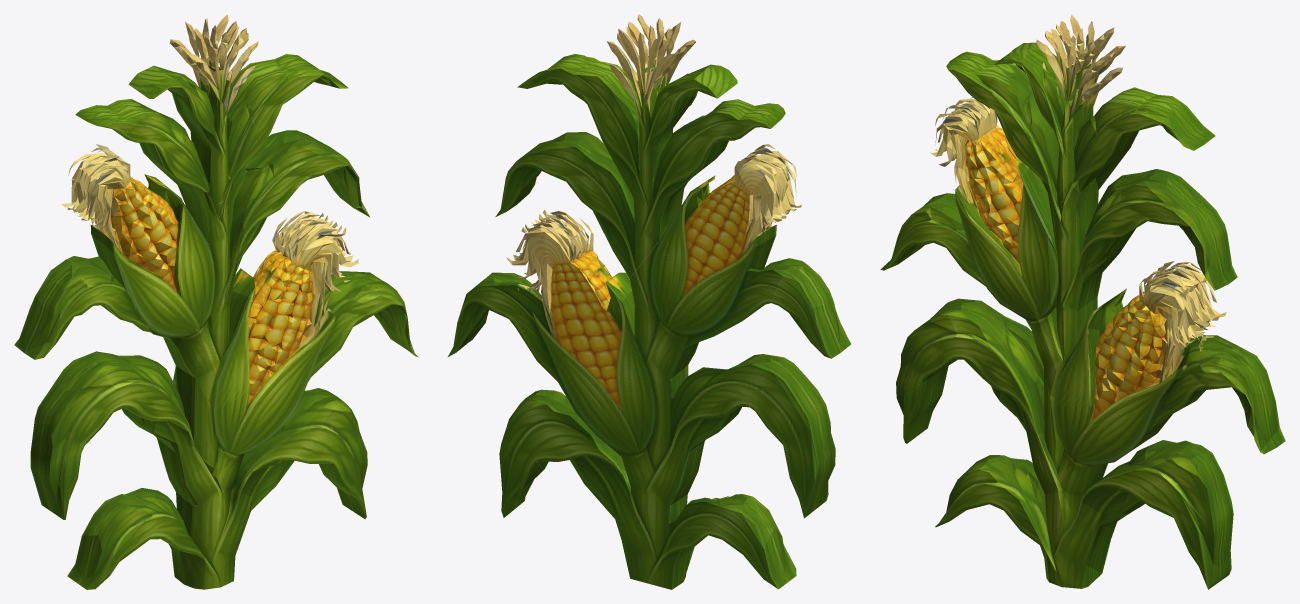
The model's file is jagung.glb.
The picture shows the model from 3 angles, left to right: view 1: azimuth 30°, elevation 25°; view 2: azimuth 150°, elevation 25°; view 3: azimuth 330°, elevation 25°; orthographic projection.
Visible parts, largest first — view 1: Mesh_0; view 2: Mesh_0; view 3: Mesh_0.
Part boxes in pixels (x1,y1,x2,y2): Mesh_0: (14,14,418,589); Mesh_0: (448,14,850,589); Mesh_0: (880,14,1285,589).
Size of the model in its own units: 1.38 by 1.9 by 0.1566.
Materials: 1 (1 with a texture image).
